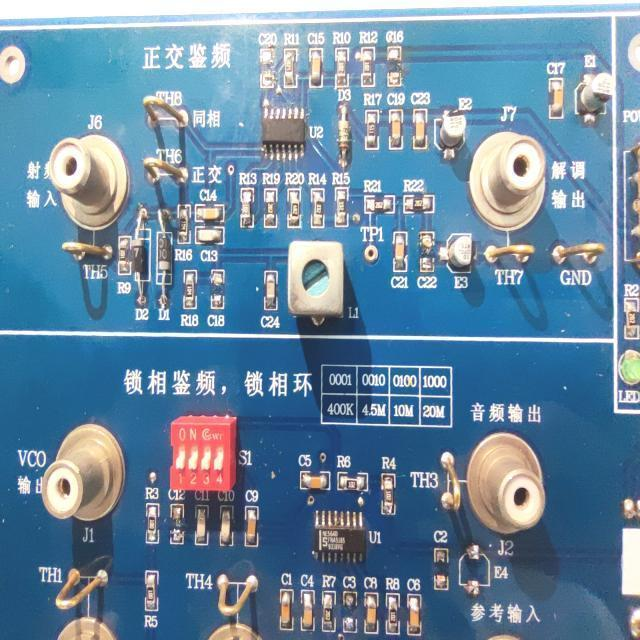Missing component: (458, 548, 510, 592), (429, 530, 452, 594), (205, 268, 229, 329), (257, 31, 279, 89), (417, 230, 437, 290), (386, 29, 406, 88), (167, 489, 187, 546), (342, 575, 359, 634)
